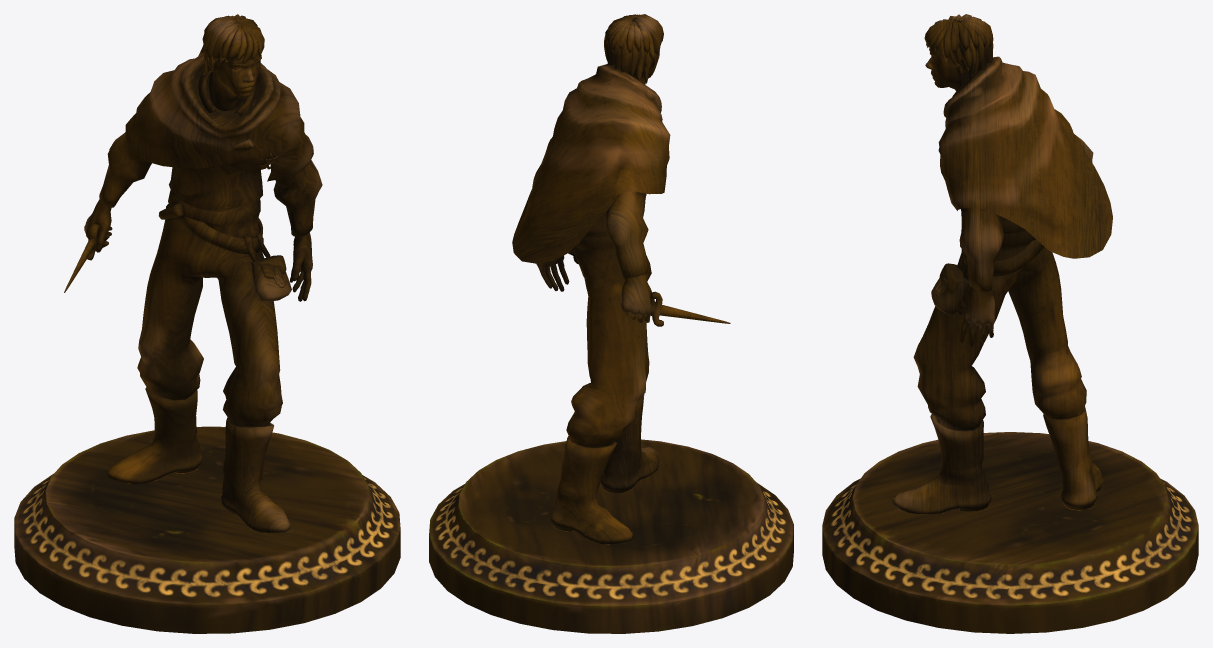
Rendered from Gg_Figurka.fbx.
3 views of the same model, side by side, from view 1: azimuth 30°, elevation 25°; view 2: azimuth 150°, elevation 25°; view 3: azimuth 270°, elevation 25° (orthographic). The views are drawn at different scales.
Visible parts, largest first — view 1: figurka_gg; view 2: figurka_gg; view 3: figurka_gg.
Part boxes in pixels (x1=…): figurka_gg: x1=14, y1=14, x2=400, y2=633; figurka_gg: x1=429, y1=14, x2=793, y2=633; figurka_gg: x1=822, y1=14, x2=1198, y2=633.
Size of the model in its own units: 0.0304 by 0.0478 by 0.0304.
1 material, 1 textured.
